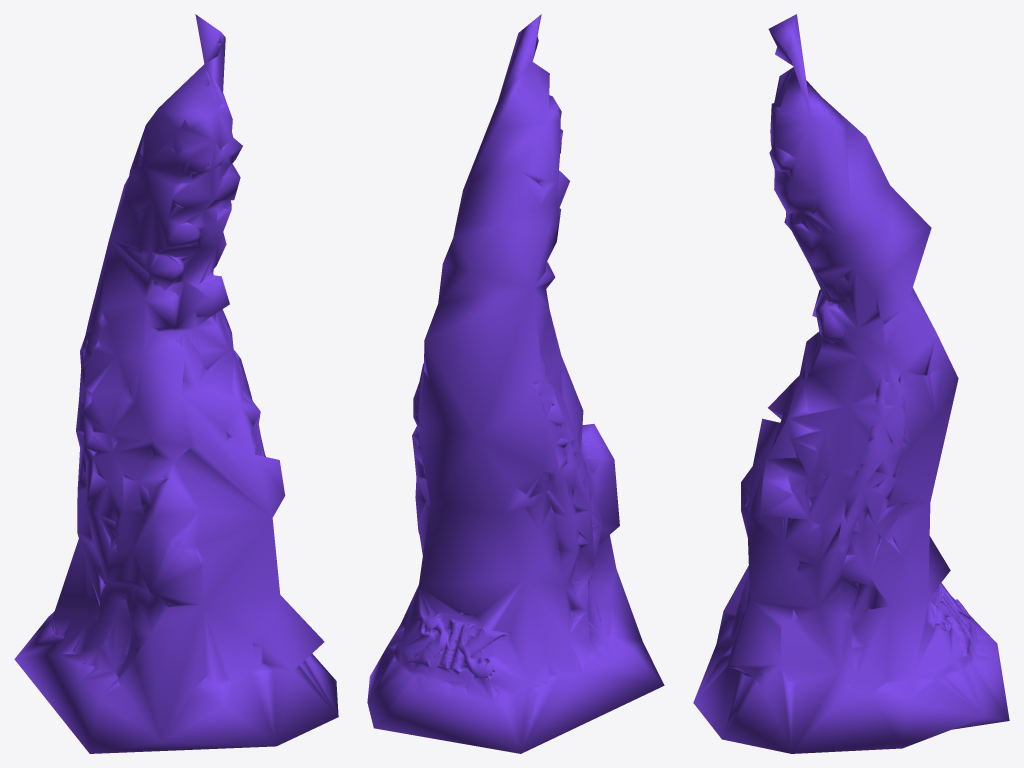
Rendered from medium-flat-ar.glb.
3 views of the same model, side by side, from view 1: azimuth 30°, elevation 25°; view 2: azimuth 150°, elevation 25°; view 3: azimuth 270°, elevation 25° (orthographic). The views are drawn at different scales.
Bounding box in the file's own units: 0.1136 × 0.2935 × 0.1245.
